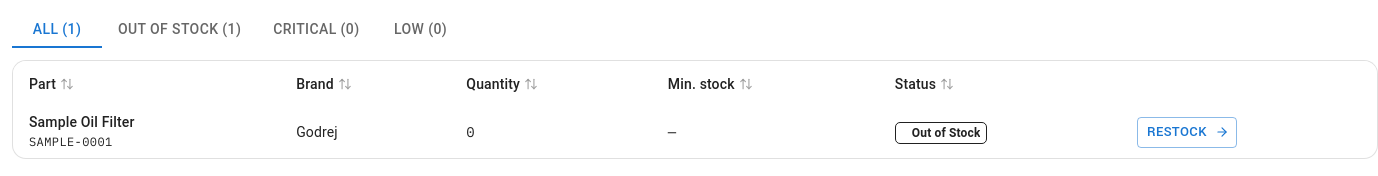
Test: LowStockTable › shows a filter-specific empty state, not the generic one, when a status has no rows
Step 1. Click the tab "Low (0)" → (420, 30), box [376,12,466,48]
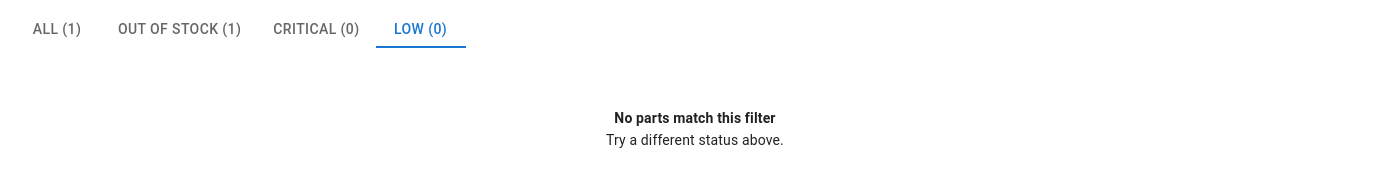
Now the text "No parts match this filter" is shown, box [606,108,784,128]
